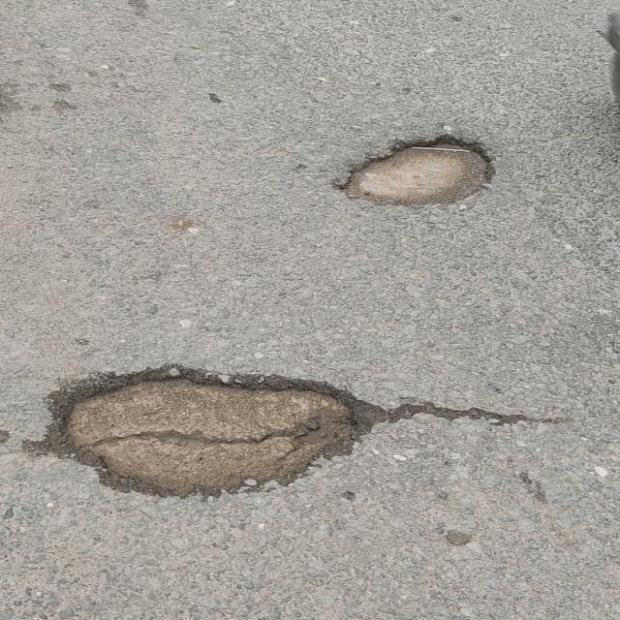lubang: (46, 368, 386, 495), (337, 137, 491, 204)
